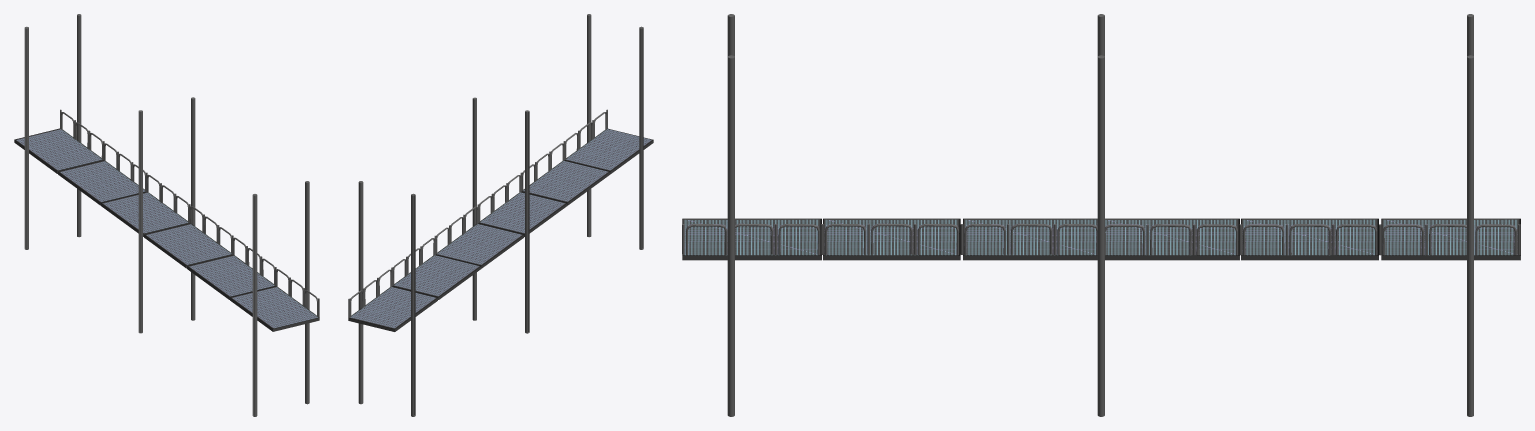
The model's file is scaffolding.fbx.
3 renders of one model, left to right at view 1: azimuth 30°, elevation 25°; view 2: azimuth 150°, elevation 25°; view 3: azimuth 270°, elevation 25°, orthographic. The views are drawn at different scales.
Parts seen in each view (by area): view 1: Plane; view 2: Plane; view 3: Plane.
Boxes of the visible parts, bbox=[...] form: Plane: bbox=[14, 14, 319, 416]; Plane: bbox=[348, 14, 653, 416]; Plane: bbox=[682, 14, 1520, 416].
Size of the model in its own units: 240 by 904 by 1916.
